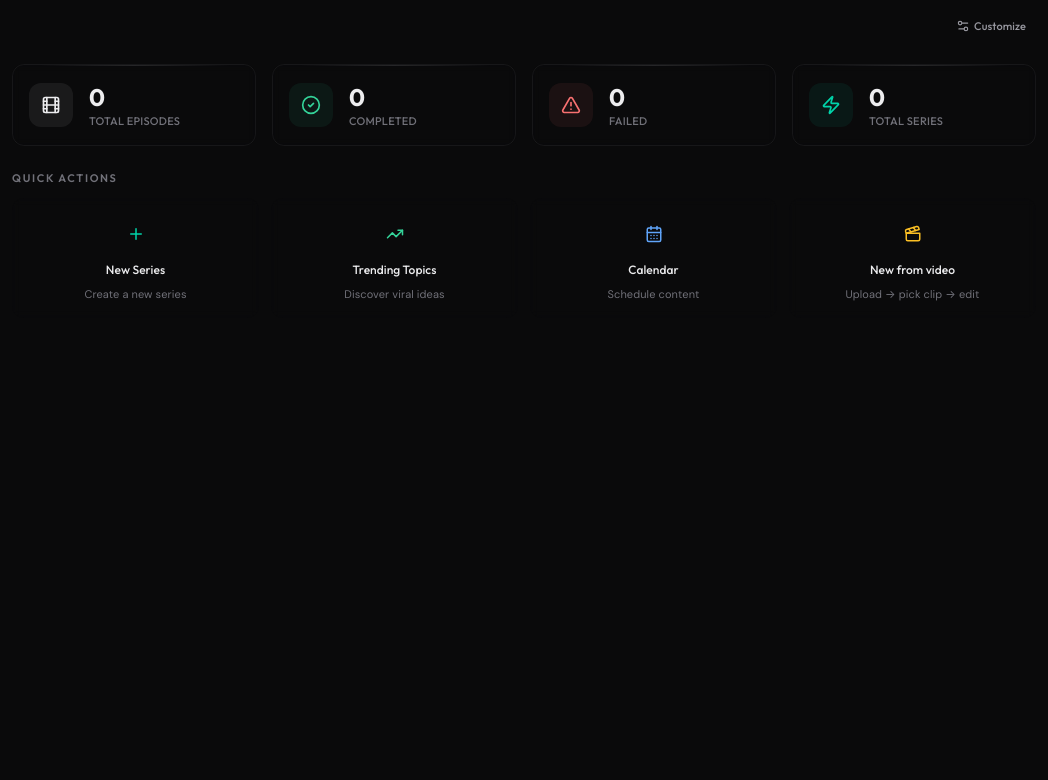
Scenario: Dashboard — edit mode › shows drag handles and hide buttons in edit mode after clicking Customize
The width and height of the screenshot is (1048, 780).
Click the button with aria-label "customize dashboard" at (991, 26), box [946, 12, 1036, 40]
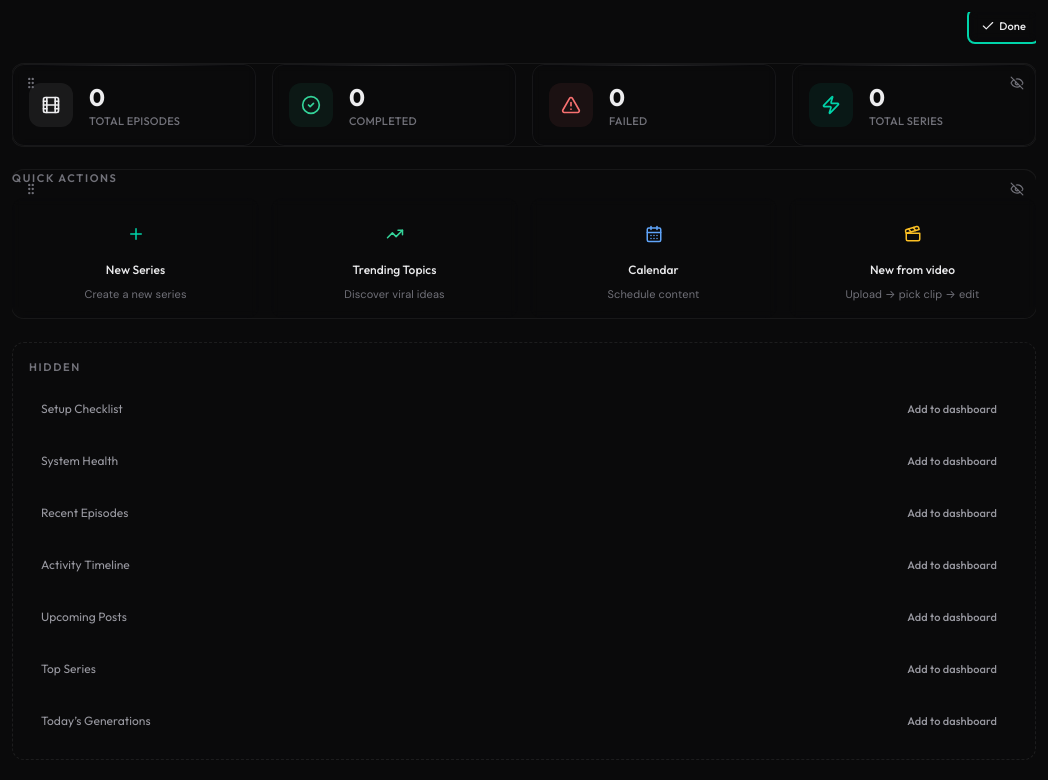
Now the button named "drag to reorder" is shown, box [20, 72, 42, 94]
Now the button named "hide widget" is shown, box [1006, 72, 1028, 94]
